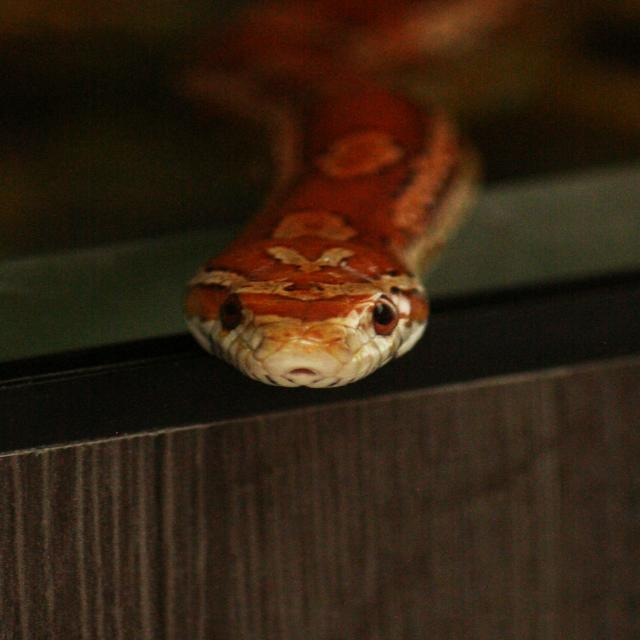Snake: (173, 0, 571, 391)
